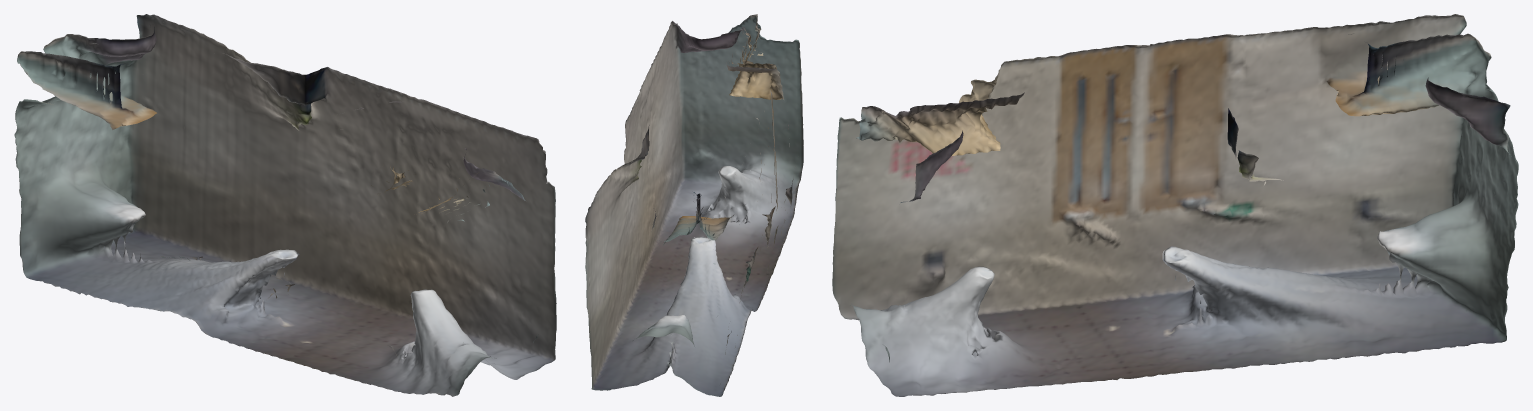
The model's file is world2glb.glb.
The picture shows the model from 3 angles, left to right: view 1: azimuth 30°, elevation 25°; view 2: azimuth 150°, elevation 25°; view 3: azimuth 270°, elevation 25°; orthographic projection. The views are drawn at different scales.
Parts seen in each view (by area): view 1: world; view 2: world; view 3: world.
Part boxes in pixels (x1=…): world: x1=14, y1=14, x2=556, y2=396; world: x1=585, y1=14, x2=803, y2=396; world: x1=832, y1=14, x2=1518, y2=396.
Size of the model in its own units: 5.98 by 4.73 by 10.58.
